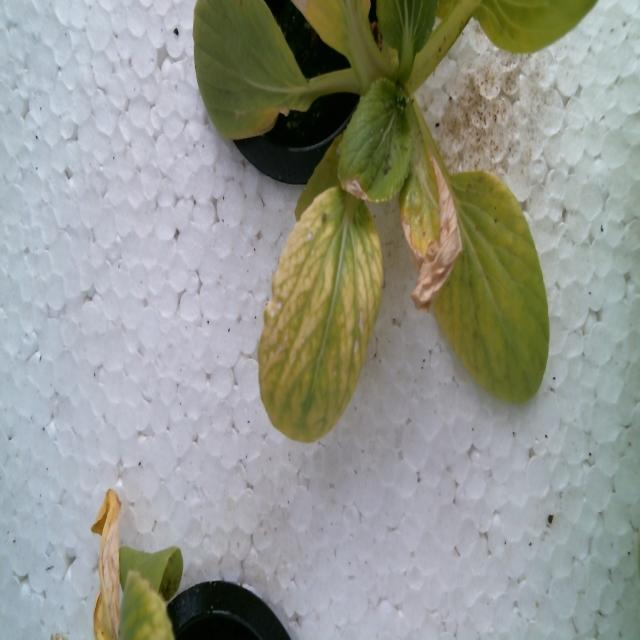pakcoy_tidak_sehat: (196, 0, 599, 455)
